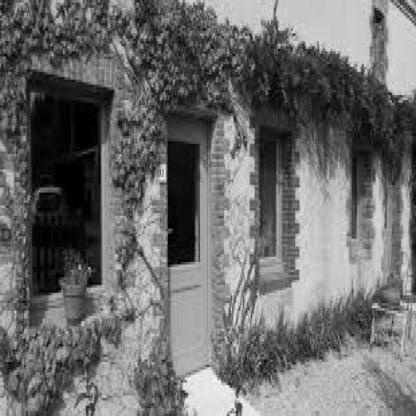door: (154, 93, 222, 396)
